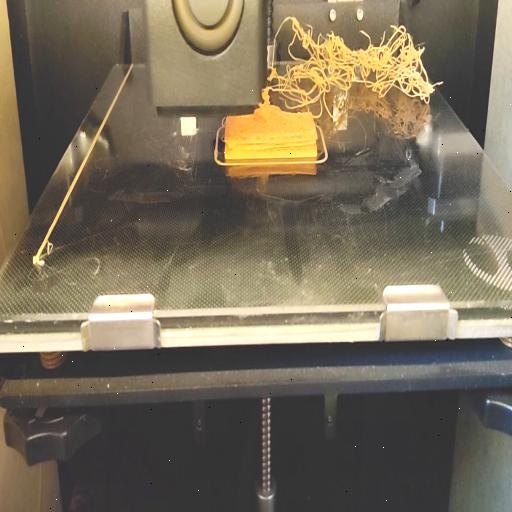spaghetti: (266, 13, 444, 119)
